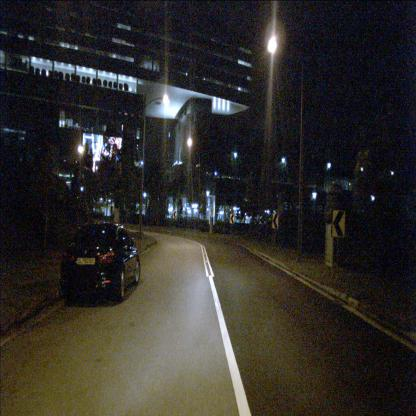vehicle-car: (60, 223, 140, 303)
